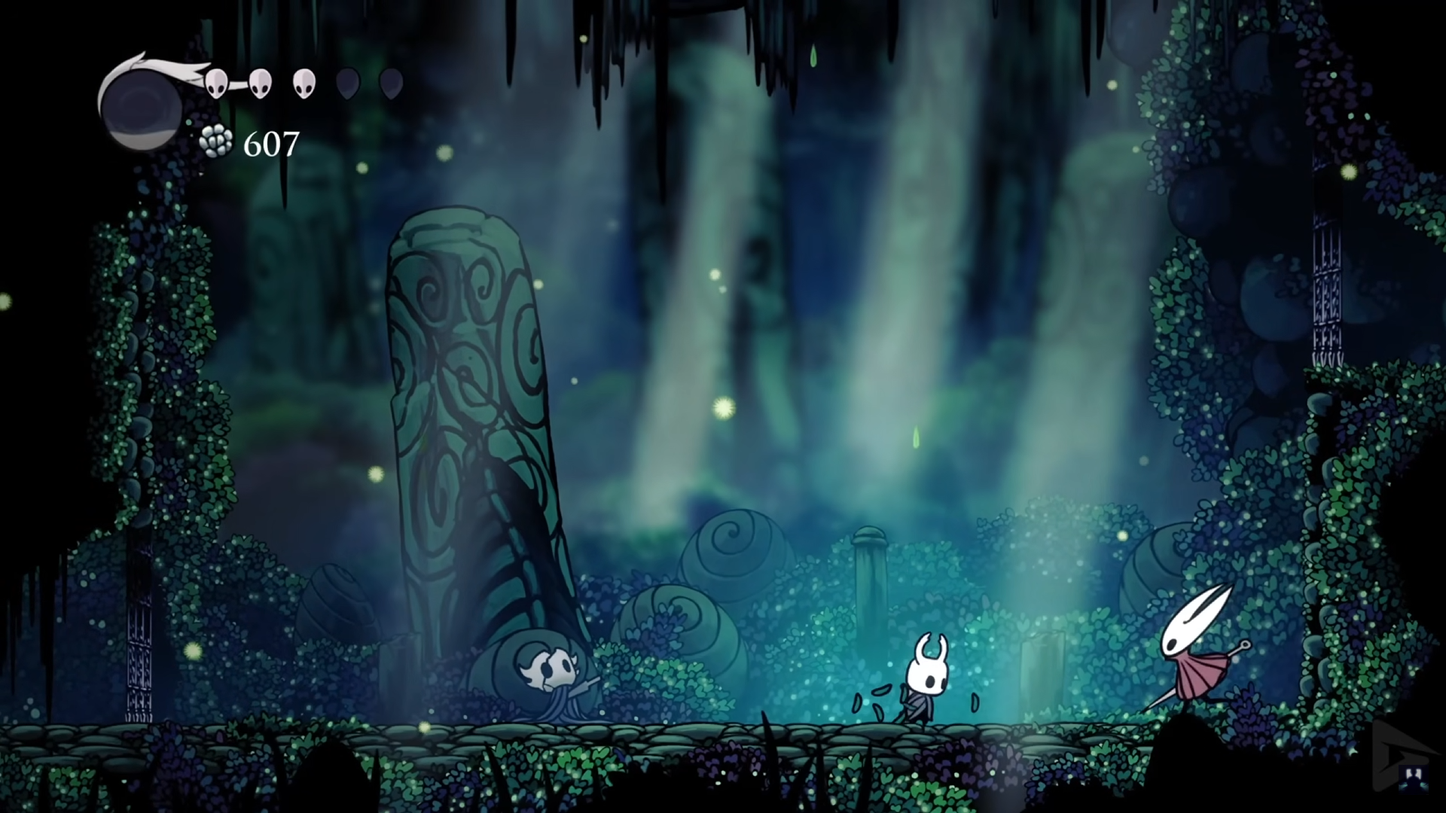HK: (889, 627, 954, 728)
